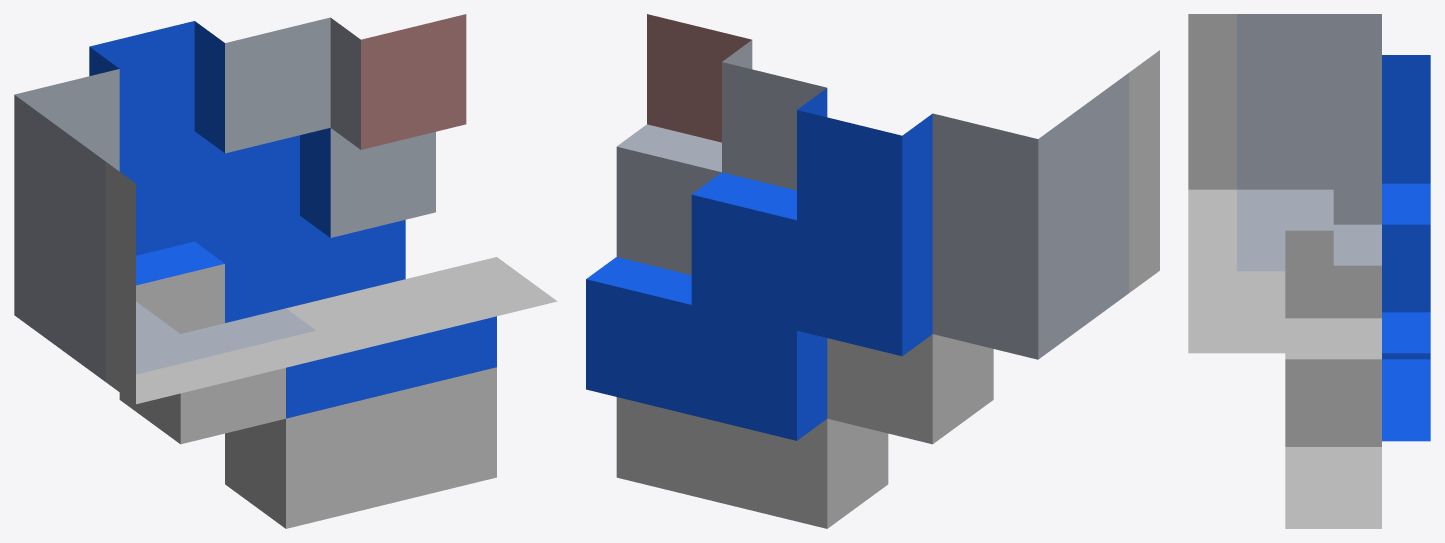
Rendered from cell_147.obj.
3 renders of one model, left to right at view 1: azimuth 30°, elevation 25°; view 2: azimuth 150°, elevation 25°; view 3: azimuth 270°, elevation 25°, orthographic. The views are drawn at different scales.
Bounding box in the file's own units: 1 × 1 × 0.625.
